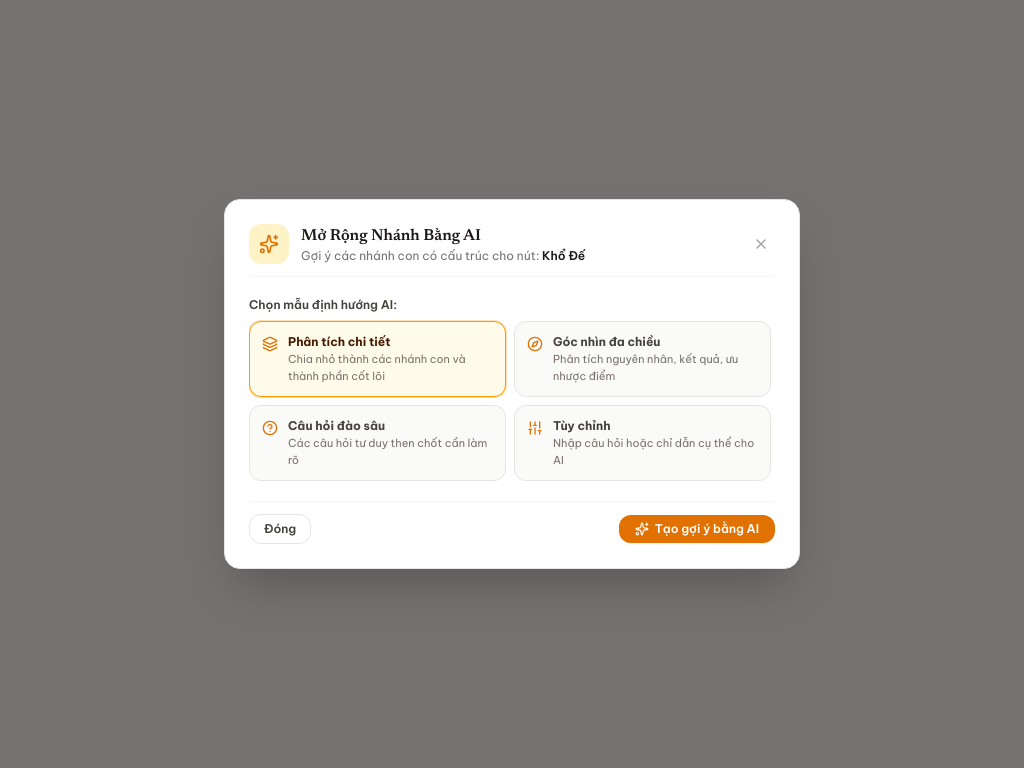
Test: Mind Map AI Node Expansion UI & Integration (Phase P3) › 2. MindMapAiExpansionModal UI Workflow › Scenario 2.3: aborts in-flight request when clicking Cancel or pressing Escape during loading
Click the button with test id "btn-submit-ai-generate".
click(697, 529)  # box [619,515,775,543]
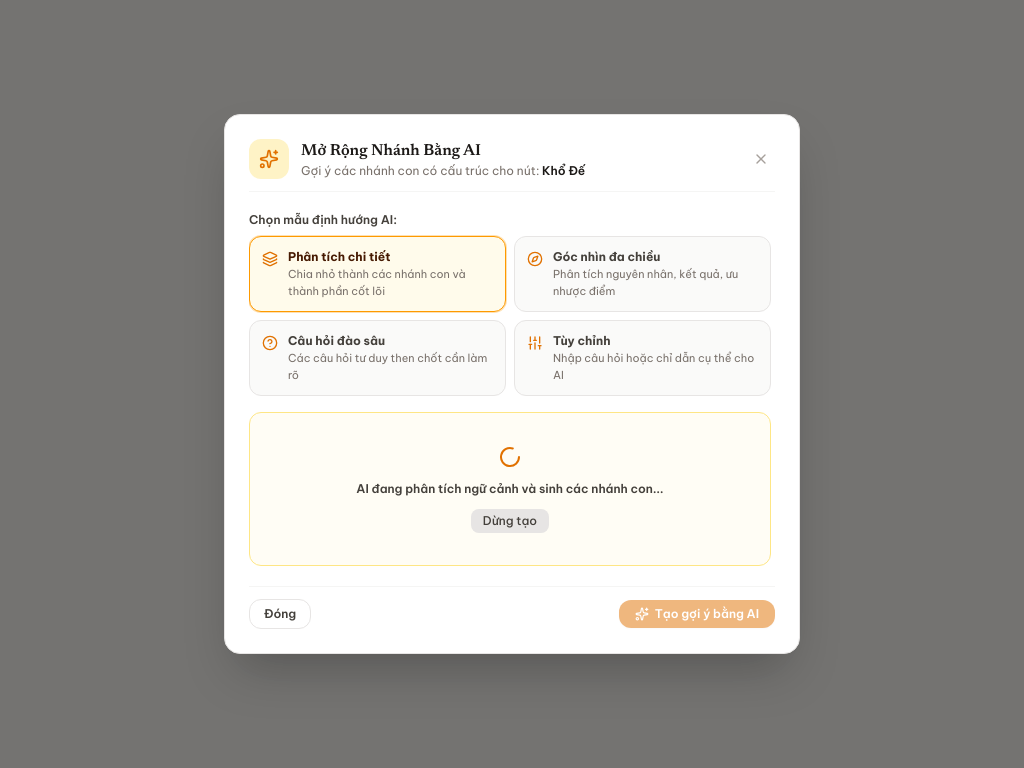
Now the element with test id "ai-generation-loading" is shown, box [249,412,771,566]
Click Cancel/Stop button while loading
Click the button with test id "btn-cancel-ai-generation".
click(510, 521)  # box [471,509,549,533]
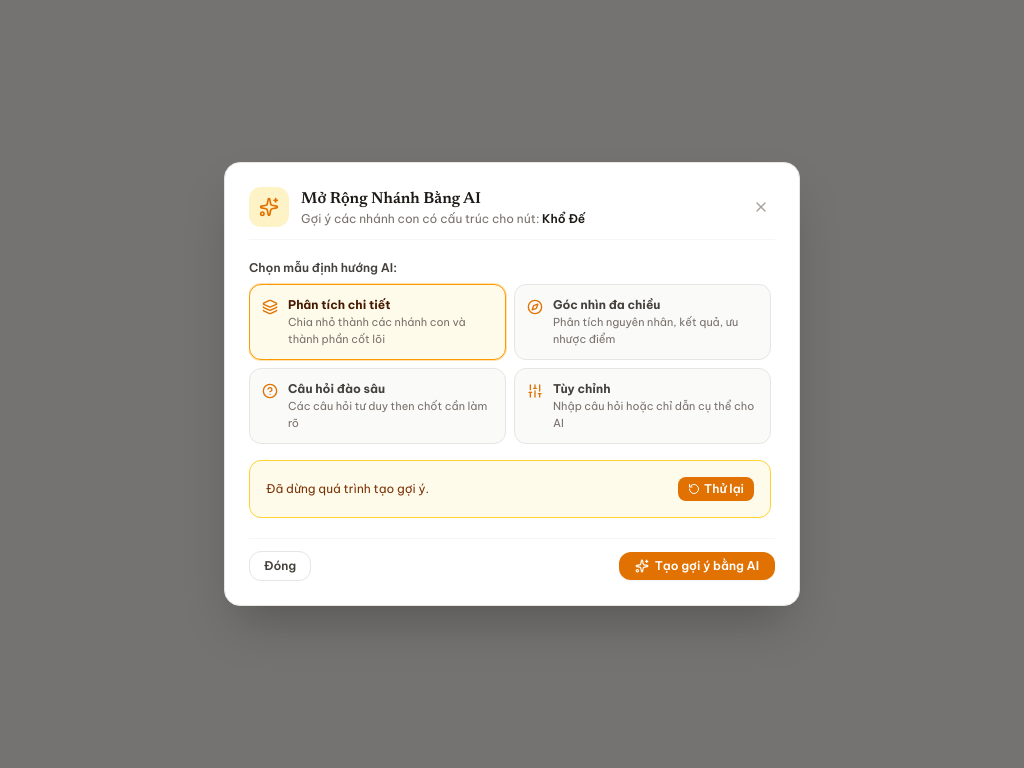
Expected: the button with test id "btn-close-ai-modal" is shown, [747,193,775,221]
Now the text "Đã dừng quá trình tạo gợi ý." is shown, box [266,481,429,497]
Now the button with test id "btn-retry-ai-generation" is shown, box [678,477,754,501]
